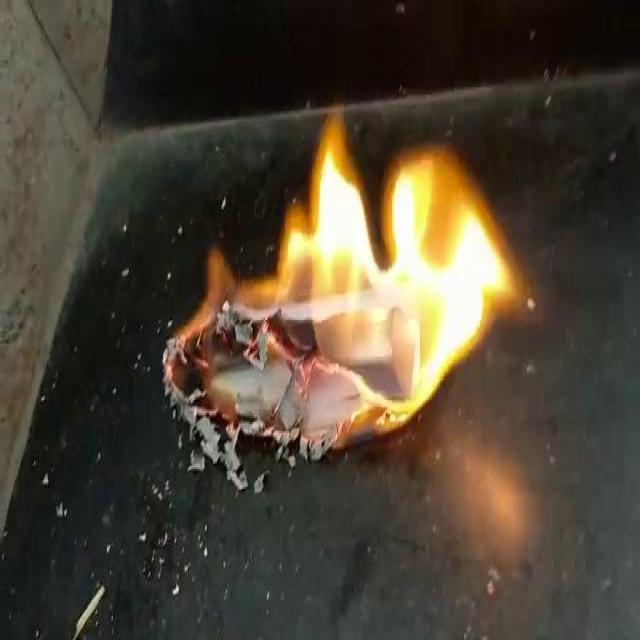Fire: (180, 106, 530, 446)
